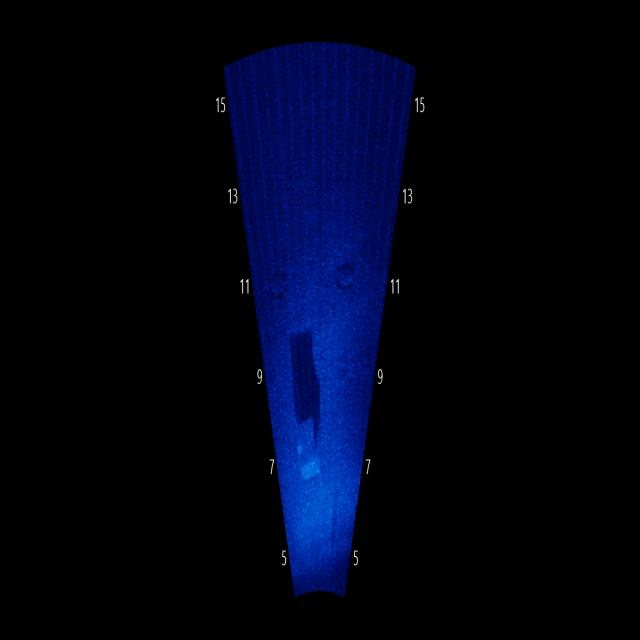square: (289, 378, 327, 497)
